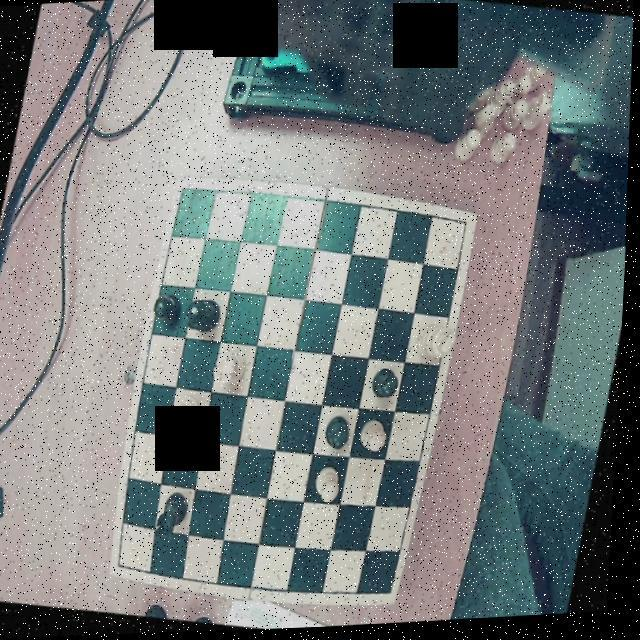chess-table-corners: (452, 213, 478, 240), (176, 180, 200, 208), (386, 578, 407, 609), (117, 555, 139, 580)
